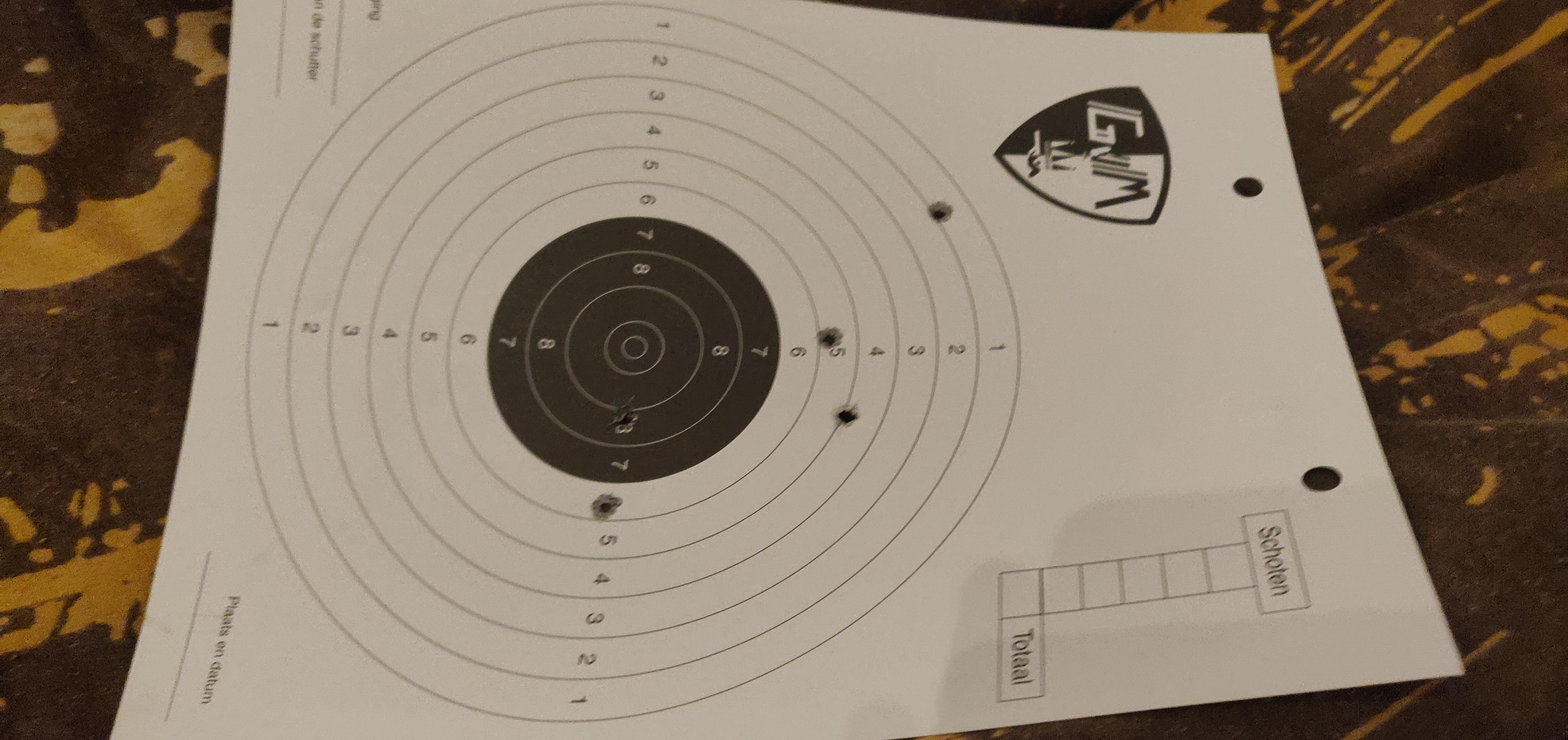hole: (605, 397, 638, 432), (588, 492, 621, 523), (815, 323, 846, 351), (926, 198, 955, 226), (833, 401, 862, 428)
